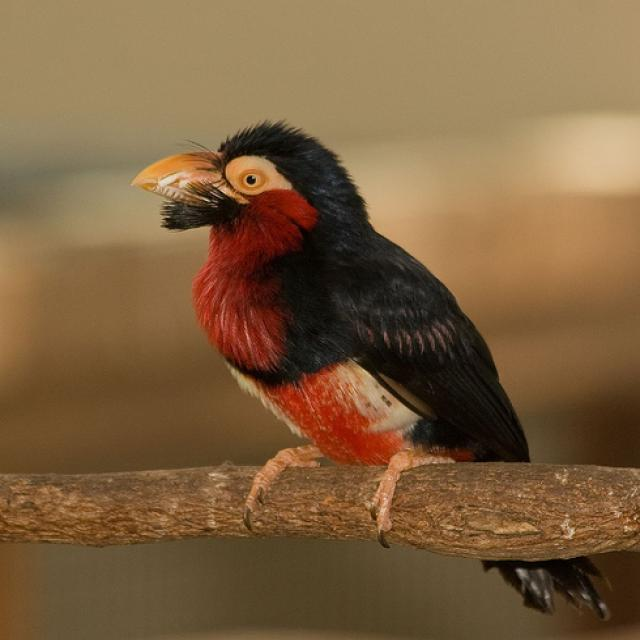bird: (129, 119, 612, 623)
